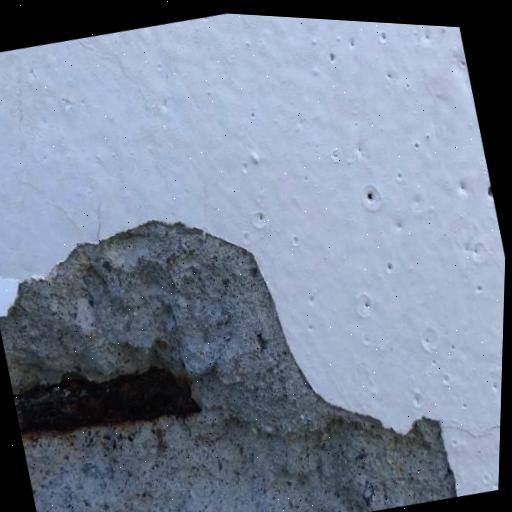exposed_rebar: (13, 366, 200, 435)
spalling: (0, 221, 456, 512)
